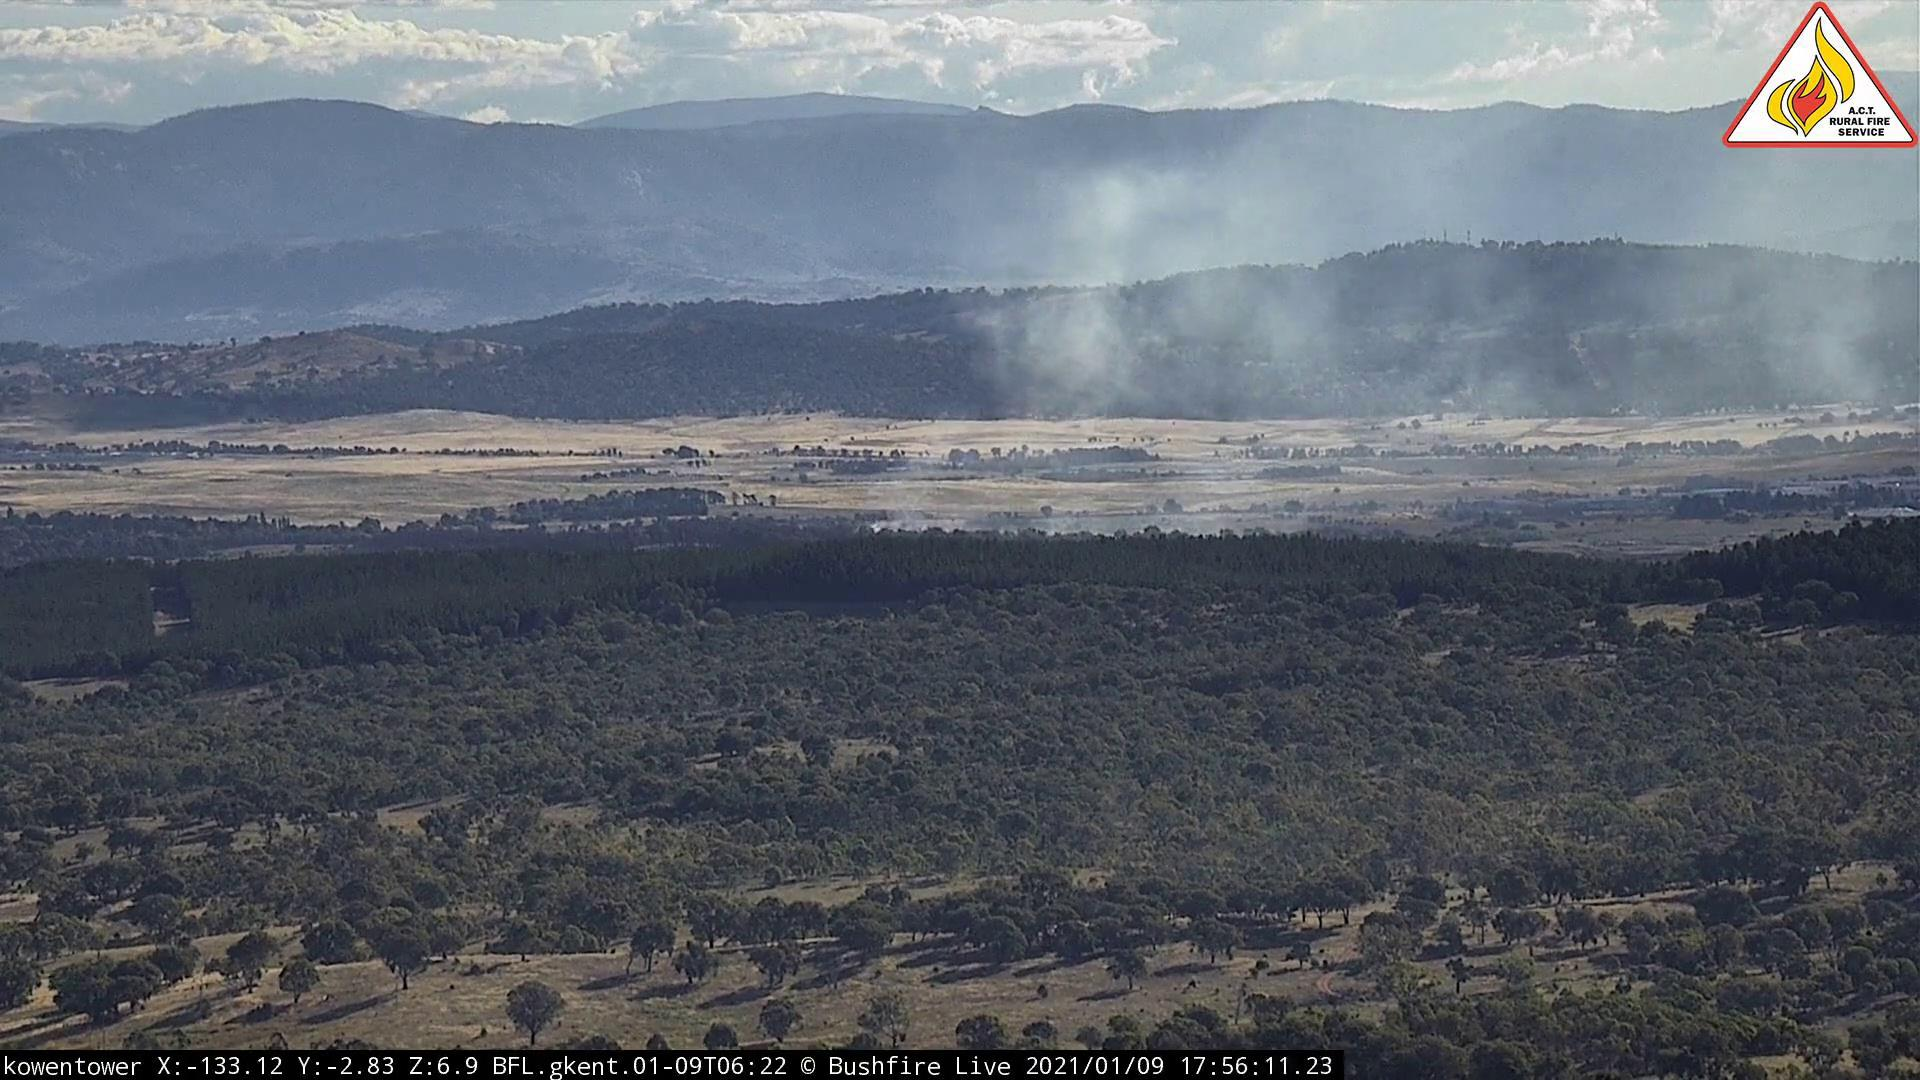Smoke: (868, 116, 1716, 545)
